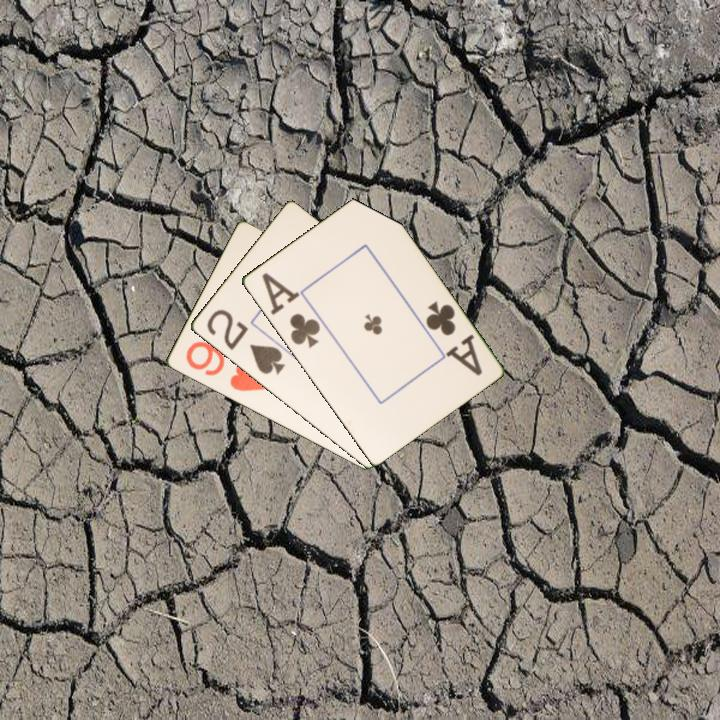2s: (202, 305, 288, 378)
9h: (182, 338, 269, 395)
Ac: (258, 268, 323, 351), (422, 297, 485, 379)
